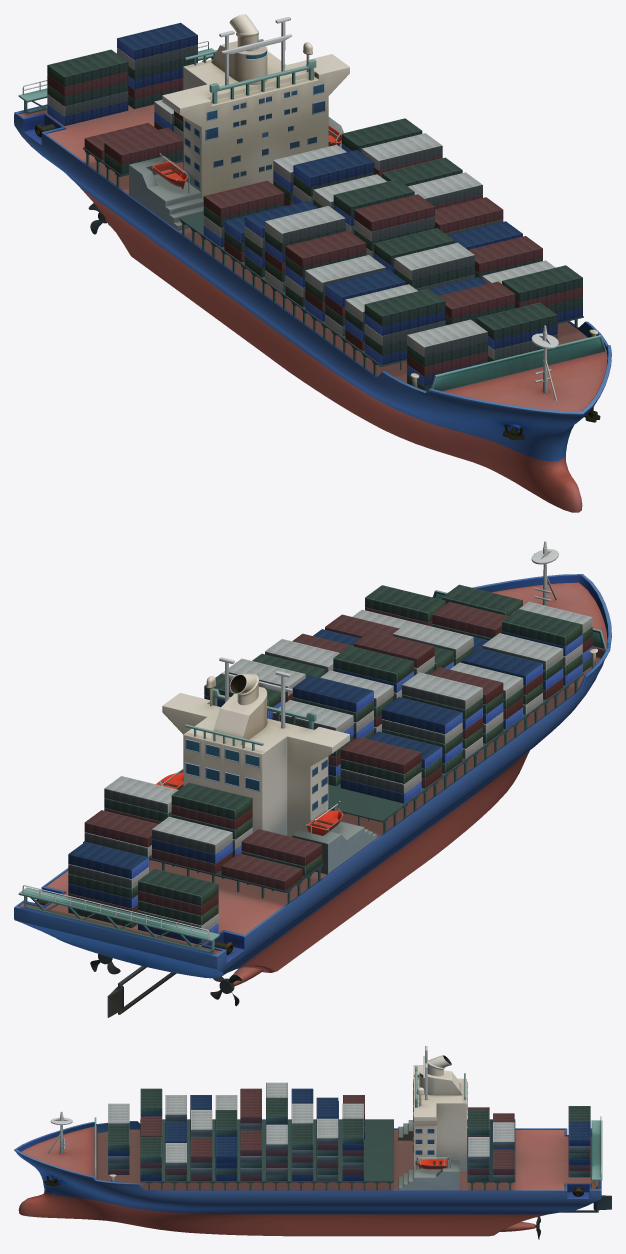
File: ship.glb
3 views of the same model, one above another, from view 1: azimuth 30°, elevation 25°; view 2: azimuth 150°, elevation 25°; view 3: azimuth 270°, elevation 25° (orthographic). The views are drawn at different scales.
Parts seen in each view (by area): view 1: ocean_freighter.1; view 2: ocean_freighter.1; view 3: ocean_freighter.1.
Part boxes in pixels (x1=…): ocean_freighter.1: x1=14, y1=14, x2=611, y2=512; ocean_freighter.1: x1=14, y1=541, x2=611, y2=1017; ocean_freighter.1: x1=14, y1=1046, x2=611, y2=1239.
Bounding box in the file's own units: 25 × 30 × 100.
Materials: 1 (1 with a texture image).
